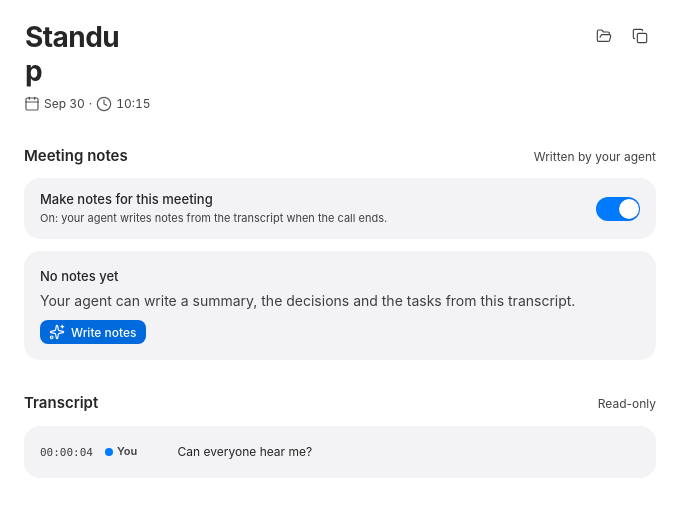
Test case: Review's header › a rename that fails keeps the old title and says why
The width and height of the screenshot is (673, 506).
Click the button with aria-label "Rename meeting": (88,55) [20,20,155,89]
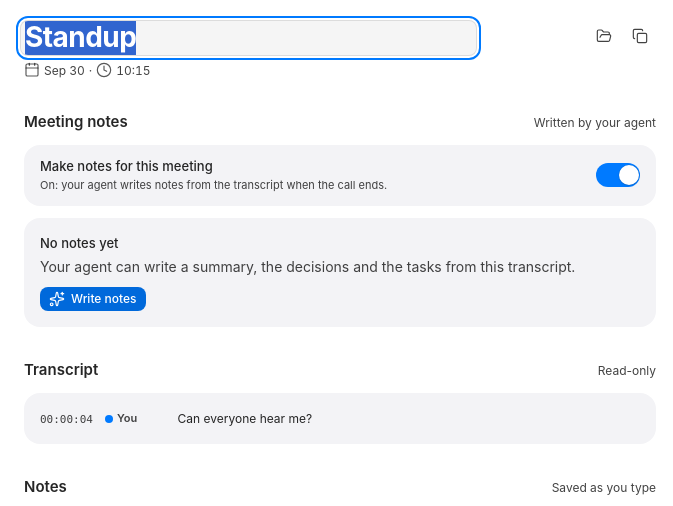
Replace the text in the field named "Meeting title" with "Budget review": (248,38) [20,20,477,56]
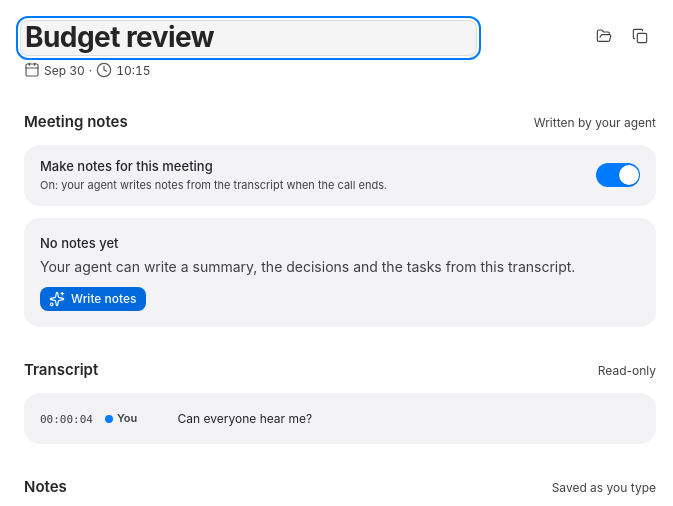
Press Enter in the field named "Meeting title", box [20,20,477,56]
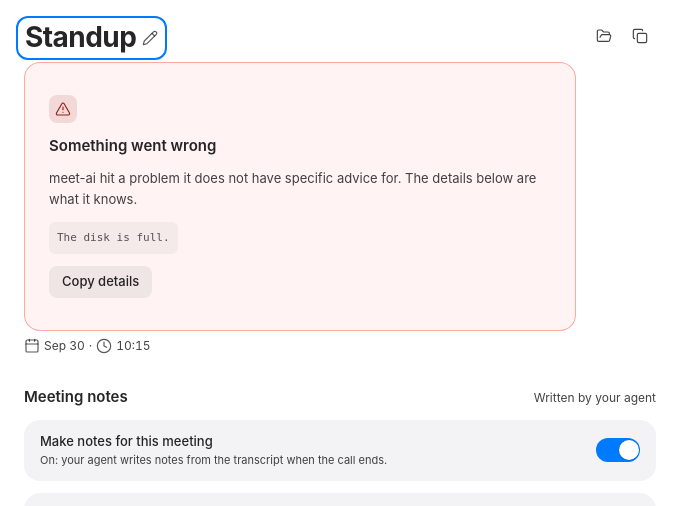
Expected: the heading "Standup" is shown, [20,20,163,56]
Now the text "The disk is full." is shown, box [49,222,178,254]
